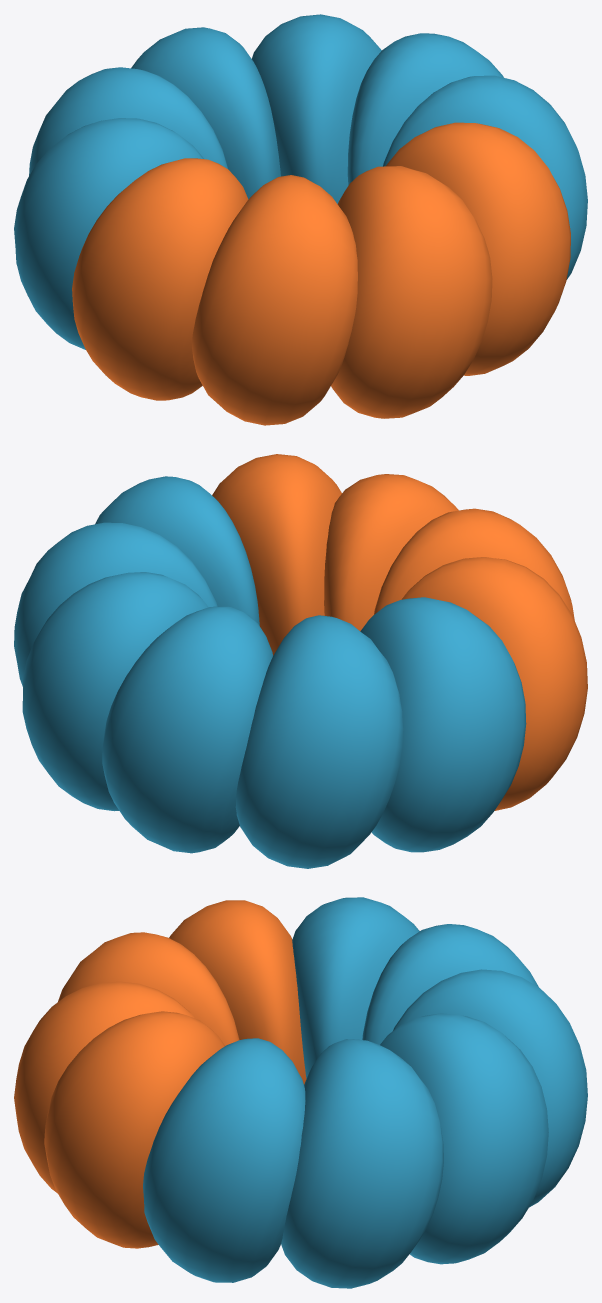
File: french_cruller.fbx
3 renders of one model, top to bottom at view 1: azimuth 30°, elevation 25°; view 2: azimuth 150°, elevation 25°; view 3: azimuth 270°, elevation 25°, orthographic.
Parts seen in each view (by area): view 1: french cruller.001; view 2: french cruller.001; view 3: french cruller.001.
Boxes of the visible parts, x1,y1,x2,y2 form: french cruller.001: (14, 14, 587, 425); french cruller.001: (14, 454, 587, 868); french cruller.001: (14, 897, 587, 1288).
Bounding box in the file's own units: 284 × 136 × 292.
